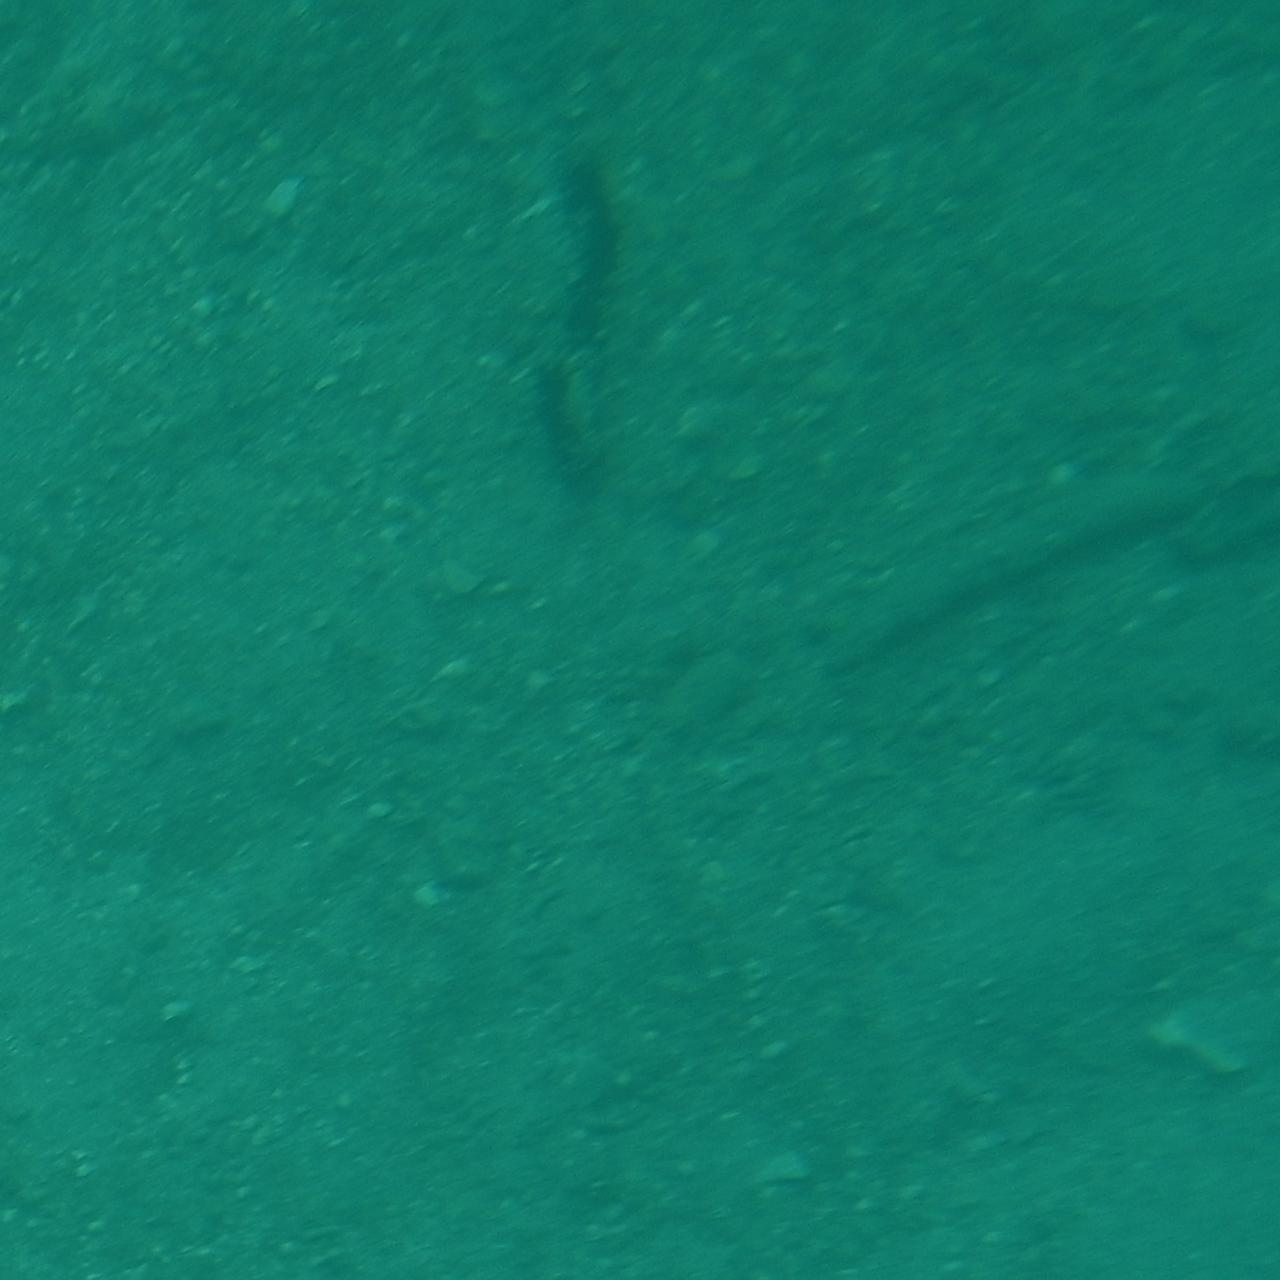Holothuria tubulosa: (840, 450, 1190, 688)
